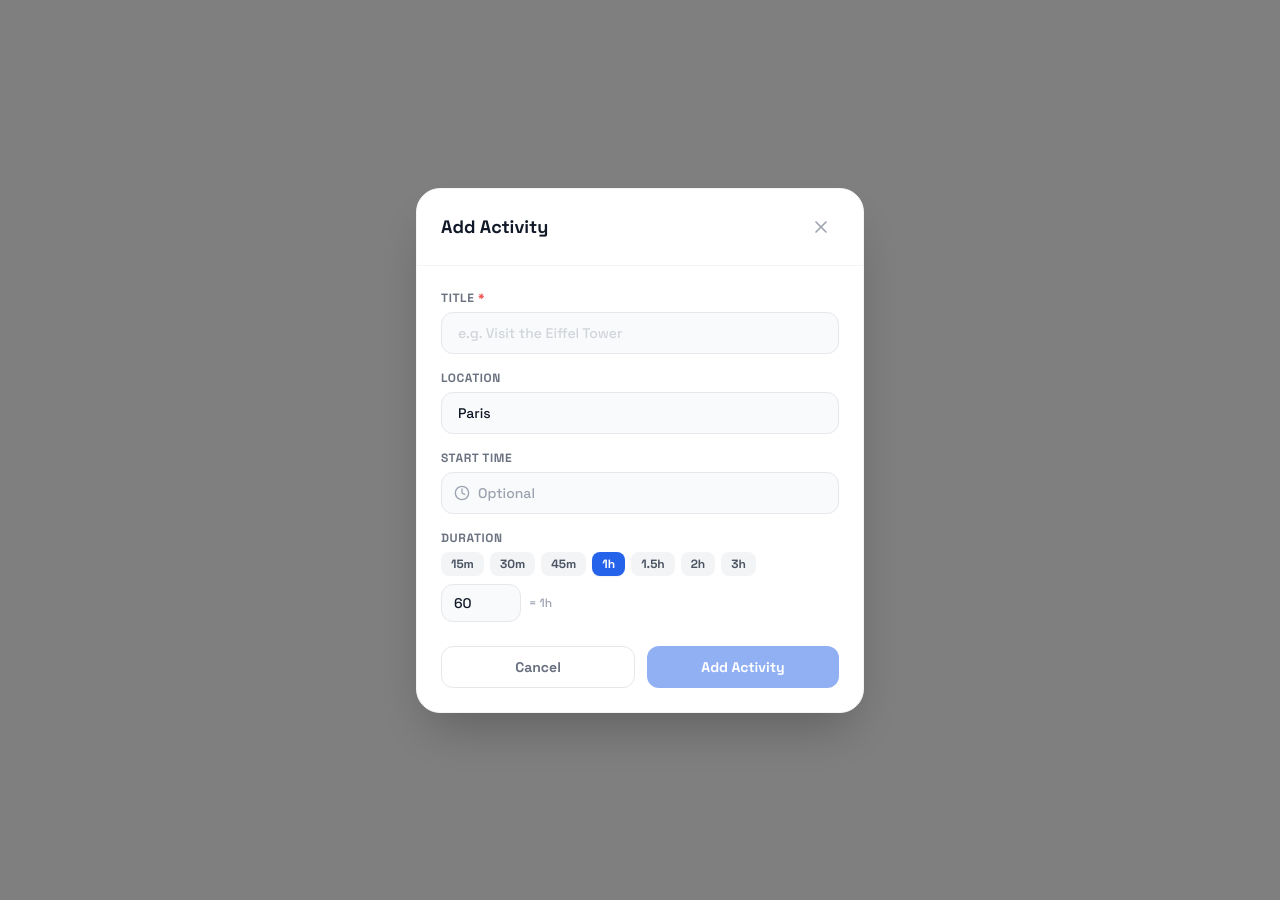
Test: AddActivityModal › detects multiple kinds of conflicts including new_pushed and push_following
Note: Set title and exact same startTime to trigger new_pushed
In the field labelled "Title *": (640, 332) [441,312,839,354], type "Conflict Act"
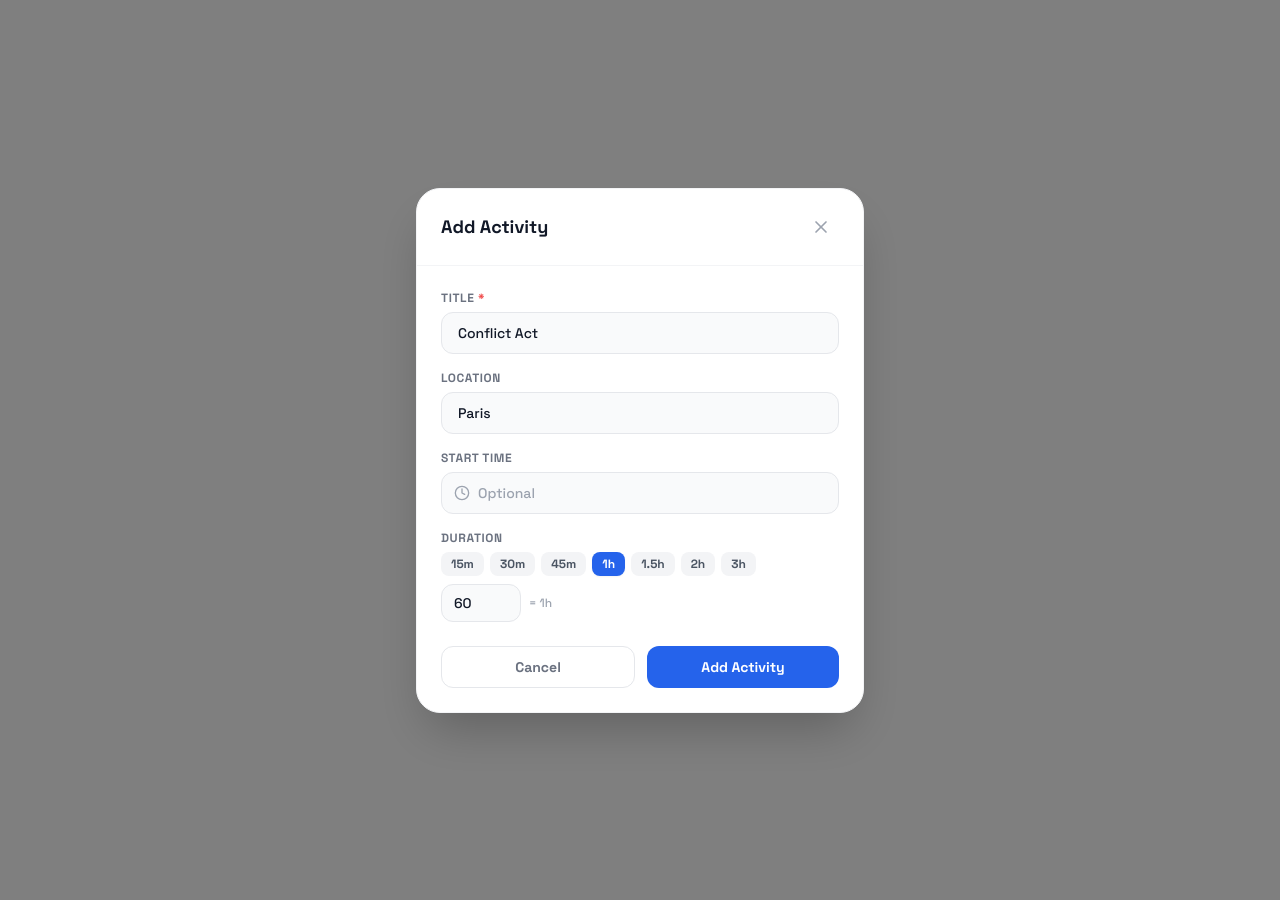
Click the button "Optional": (507, 492) [441,472,839,514]
(page scrolled)
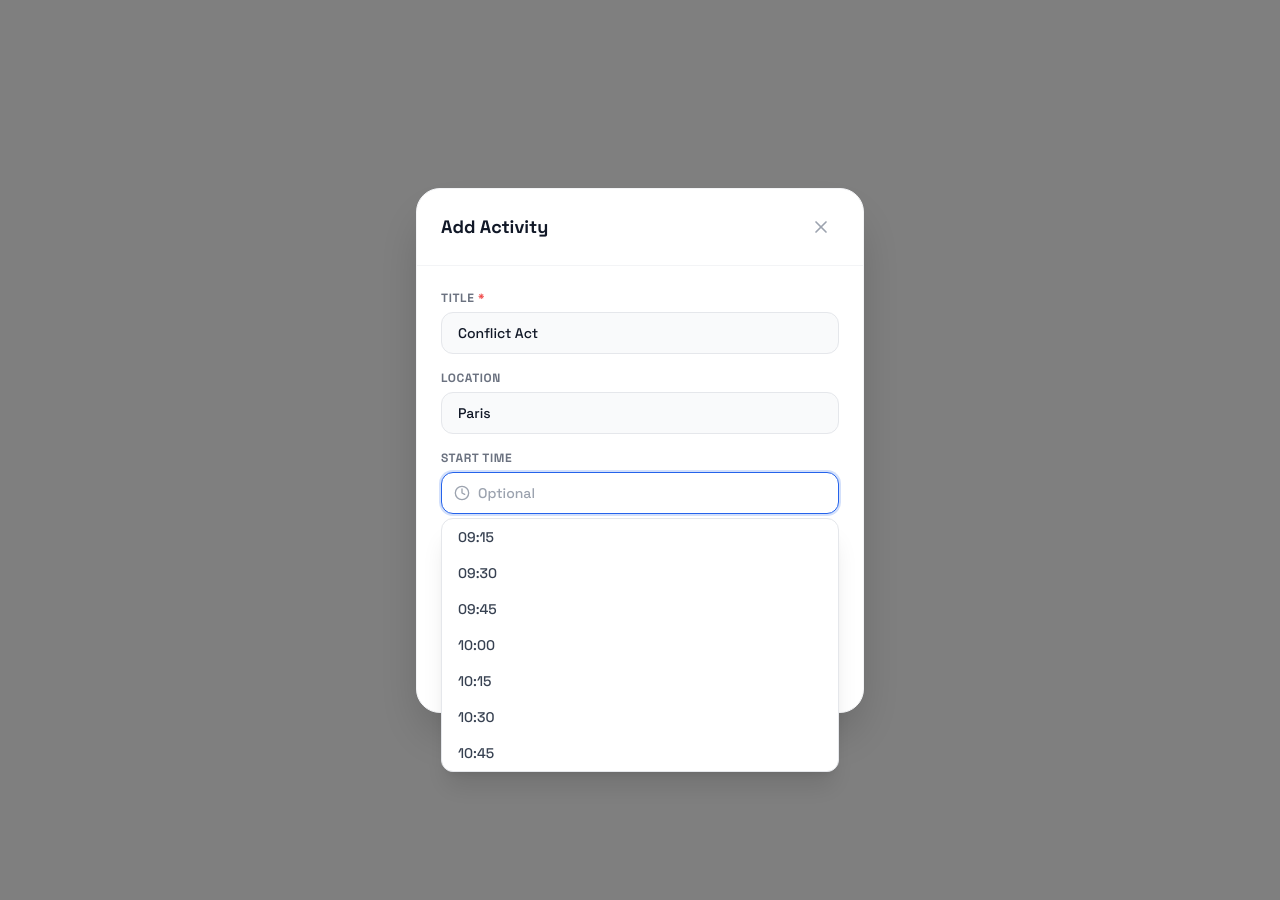
Click the button "10:00": (477, 644) [442,626,838,662]
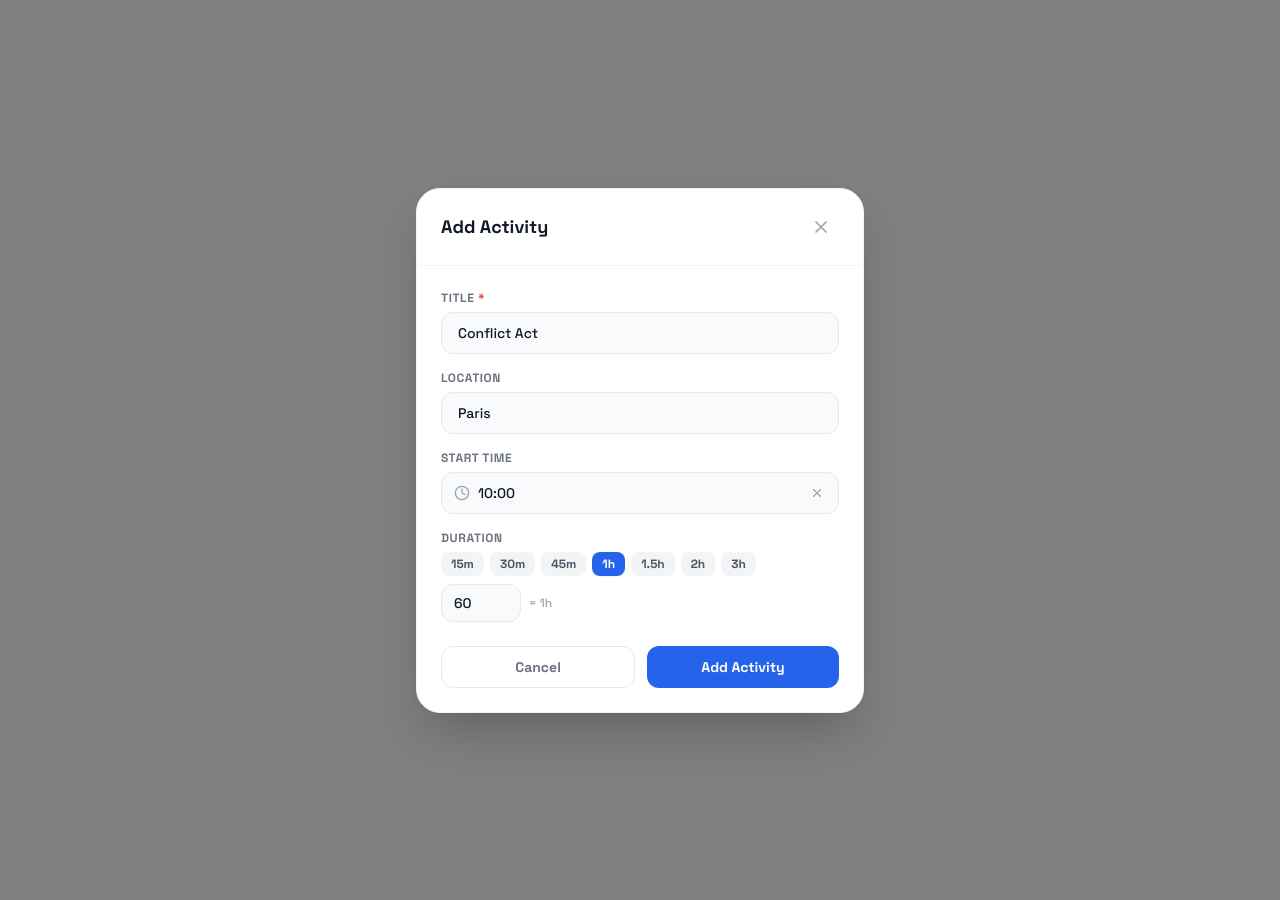
Note: Submit form
Submit the form named "Add Activity", box [417,266,863,712]
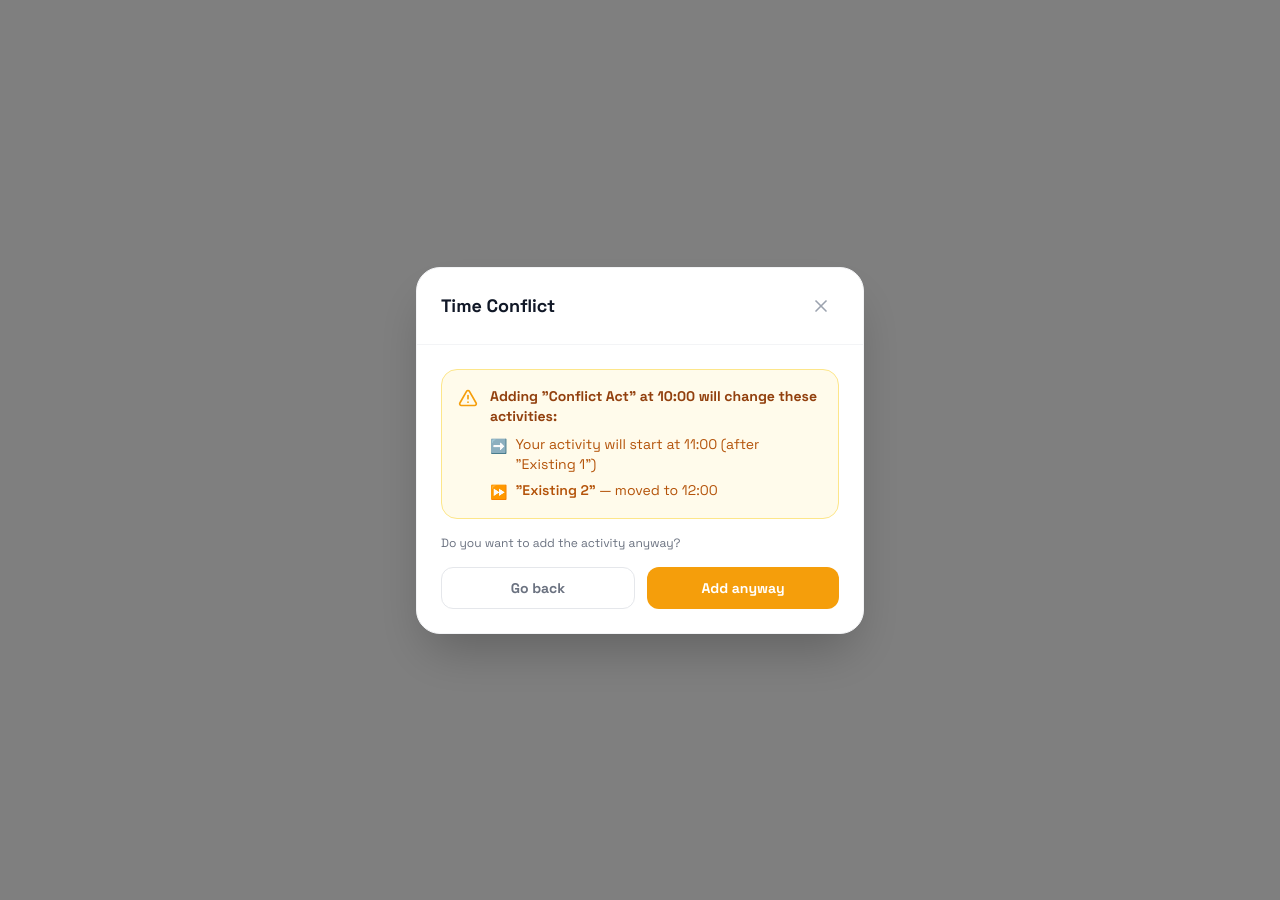
Expected: the heading "Time Conflict" is shown, [441,292,555,320]
Expected: the text "Your activity will start at 11:00 (after \"Existing 1\")" is shown, [516,434,759,472]
Expected: the text "\"Existing 2\"" is shown, [516,480,596,498]
